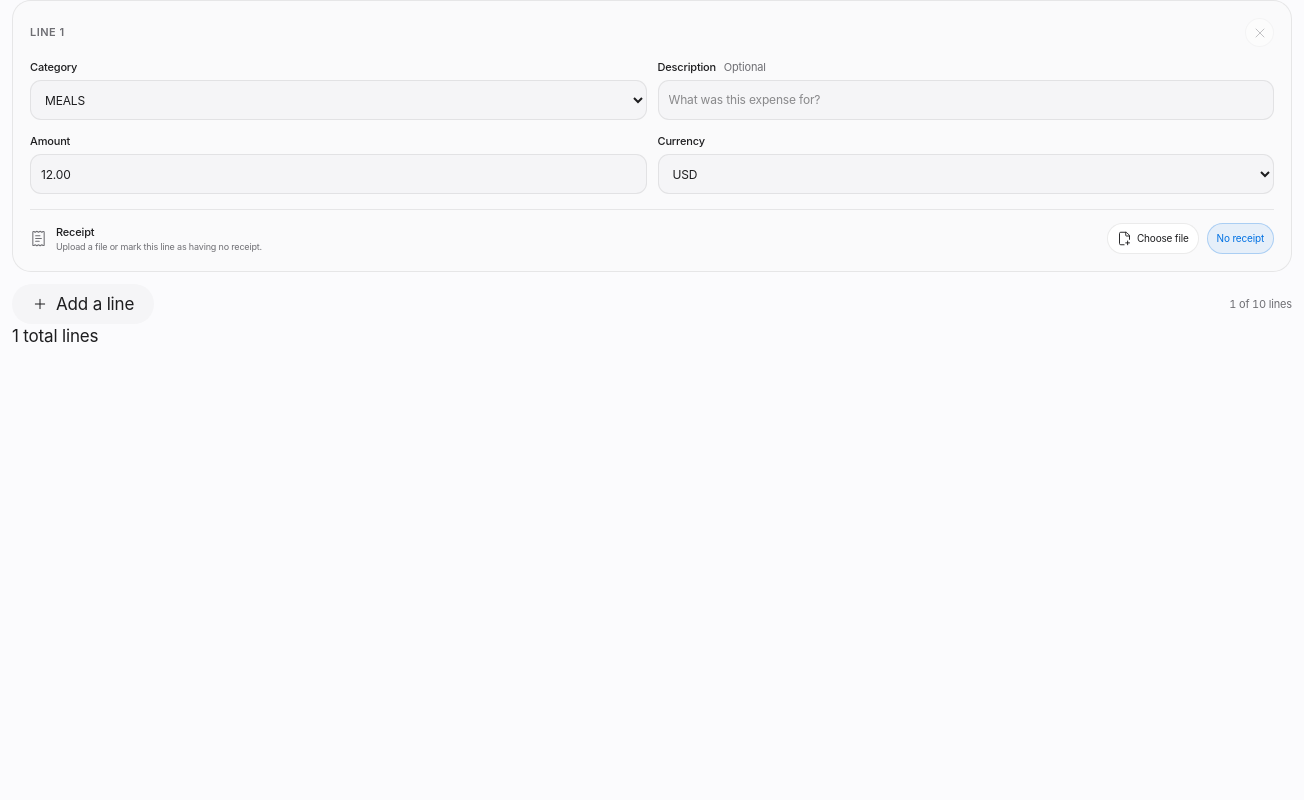
Test case: ExpenseLineEditor › adds and removes lines while keeping one line in the editor
expect the text "1 of 10 lines" is shown: met, box [1229,296,1292,312]
expect the button named "Remove line 1" is disabled: met, box [1245,18,1274,47]
Step 1. Click the button with aria-label "Add expense line" → click(83, 304), box [12,284,154,324]
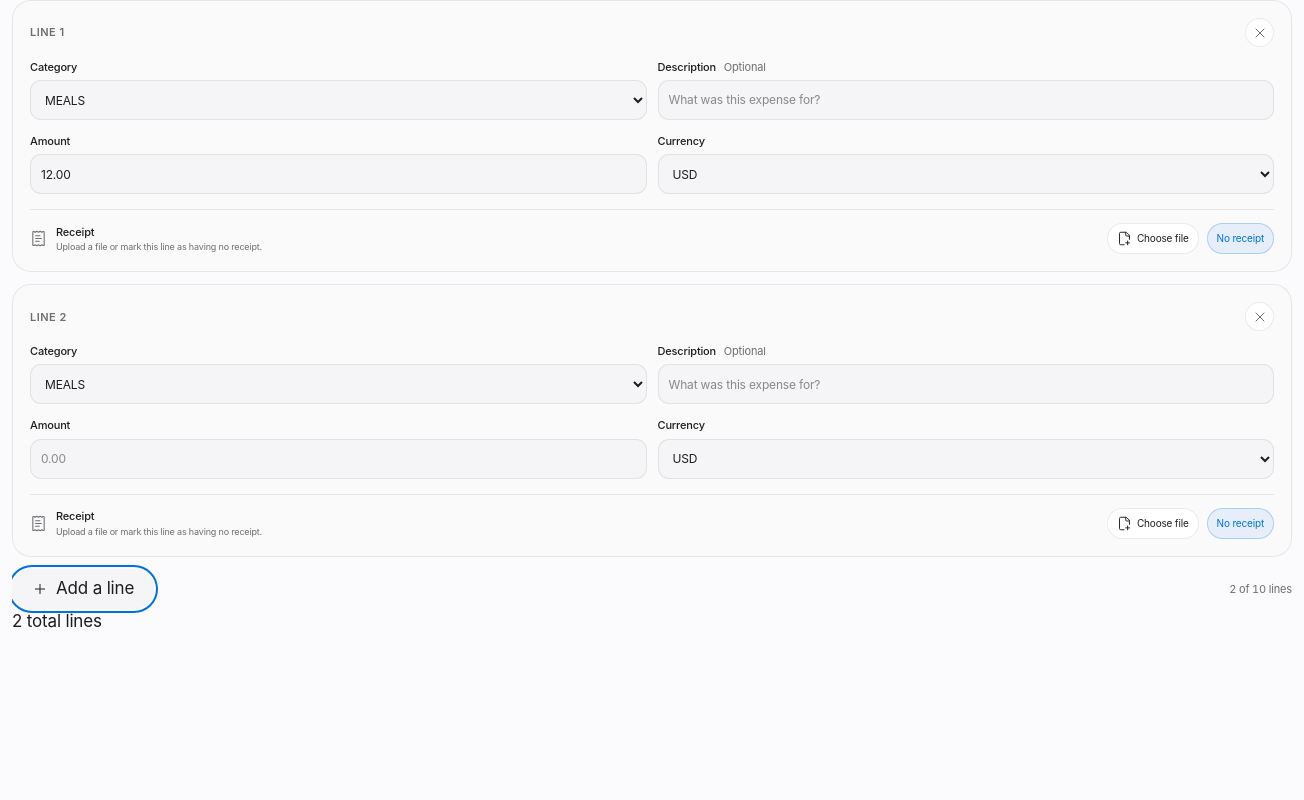
expect the text "2 of 10 lines" is shown: met, box [1229,580,1292,597]
expect the button named "Remove line 2" is enabled: met
Step 2. Click the button named "Remove line 2" → click(1260, 317), box [1245,302,1274,331]
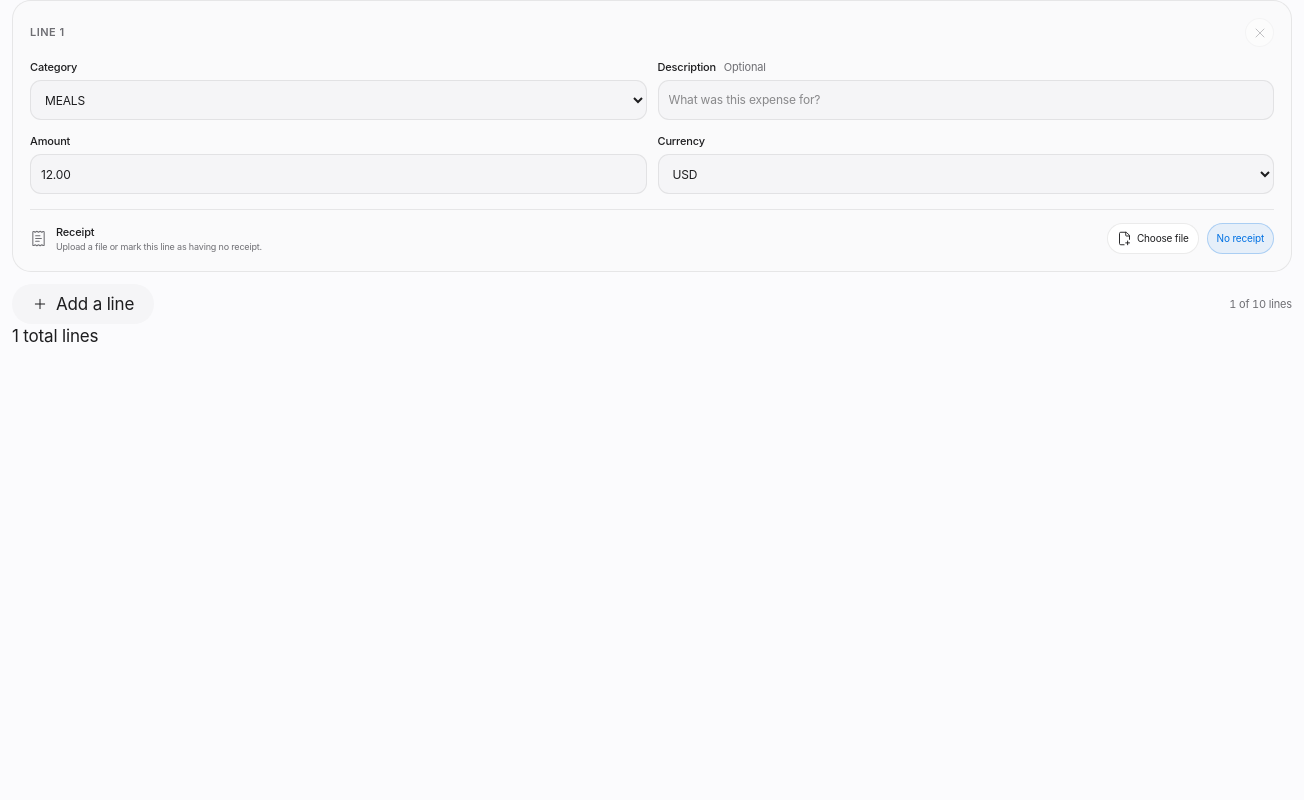
expect the button named "Remove line 1" is disabled: met, box [1245,18,1274,47]
expect the text "1 of 10 lines" is shown: met, box [1229,296,1292,312]
